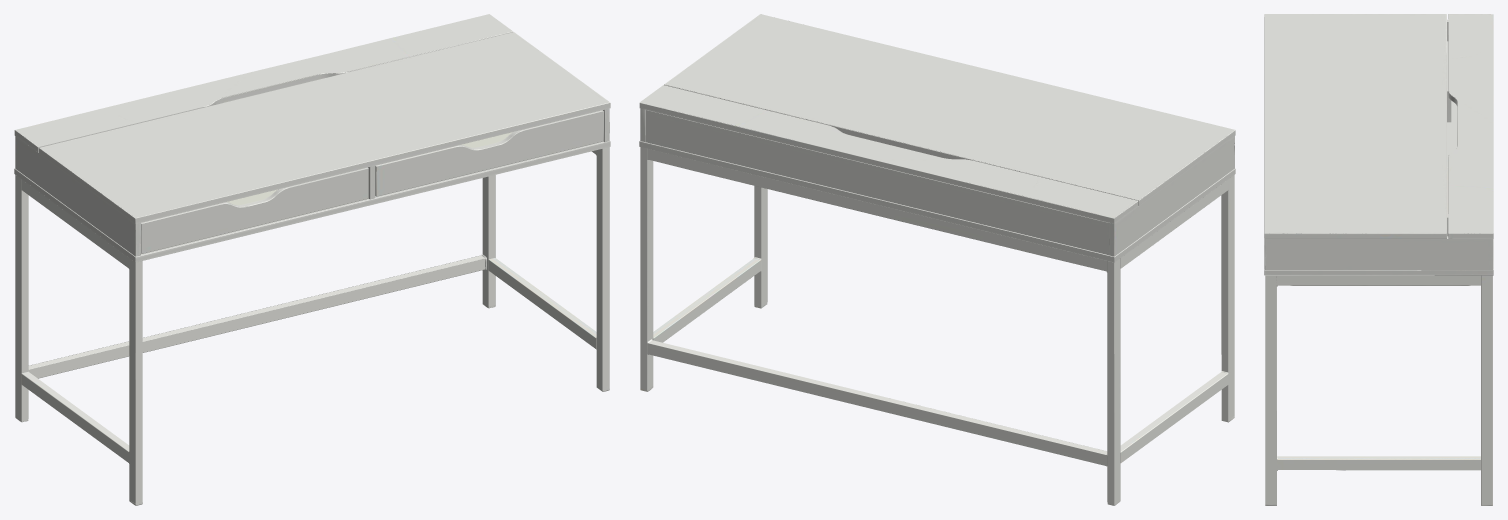
The model's file is ikea-alex-desk.glb.
3 views of the same model, side by side, from view 1: azimuth 30°, elevation 25°; view 2: azimuth 150°, elevation 25°; view 3: azimuth 270°, elevation 25° (orthographic). The views are drawn at different scales.
Visible parts, largest first — view 1: 80483438-ALEX001; view 2: 80483438-ALEX001; view 3: 80483438-ALEX001.
Part boxes in pixels (box(x1,y1,x2,y2)): 80483438-ALEX001: box(14, 14, 610, 505); 80483438-ALEX001: box(639, 14, 1235, 505); 80483438-ALEX001: box(1264, 14, 1493, 505).
Bounding box in the file's own units: 1.31 × 0.7613 × 0.5803.
1 material, 1 textured.
